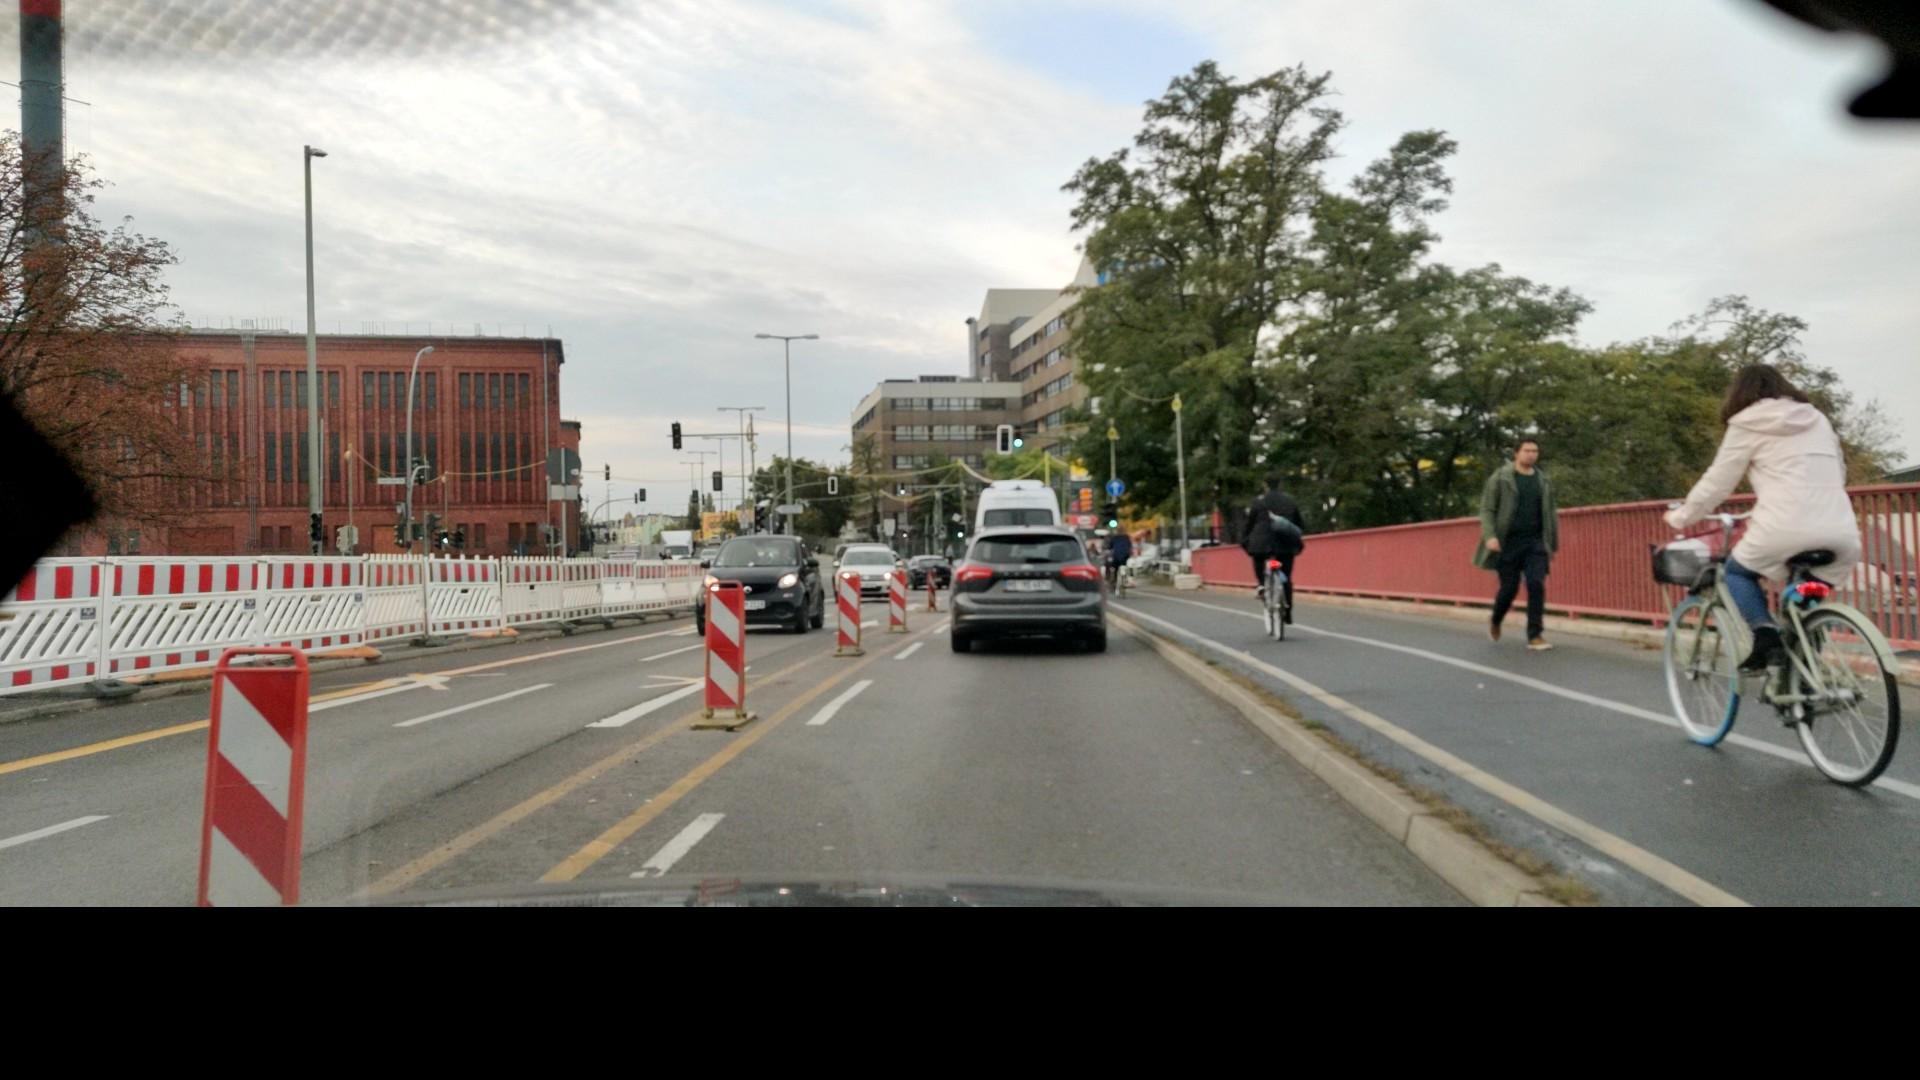Human face: (1515, 437, 1540, 467)
Vehicle registration plate: (1004, 577, 1052, 592), (741, 599, 765, 610)
